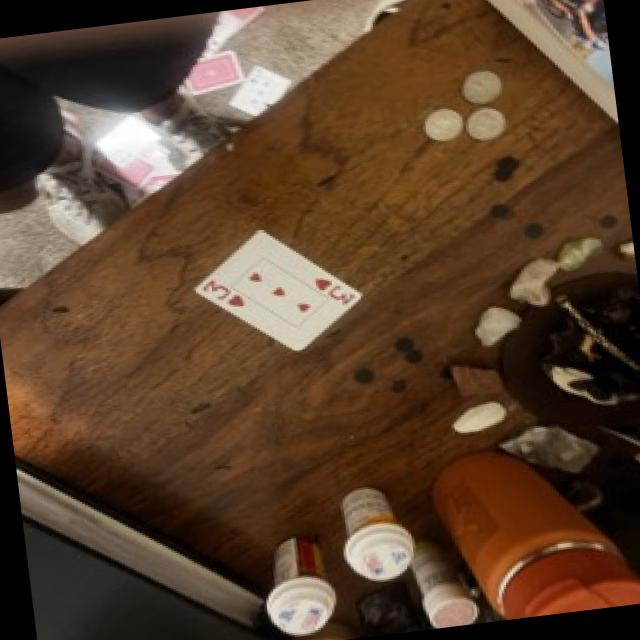3 of hearts: (195, 229, 360, 349)
